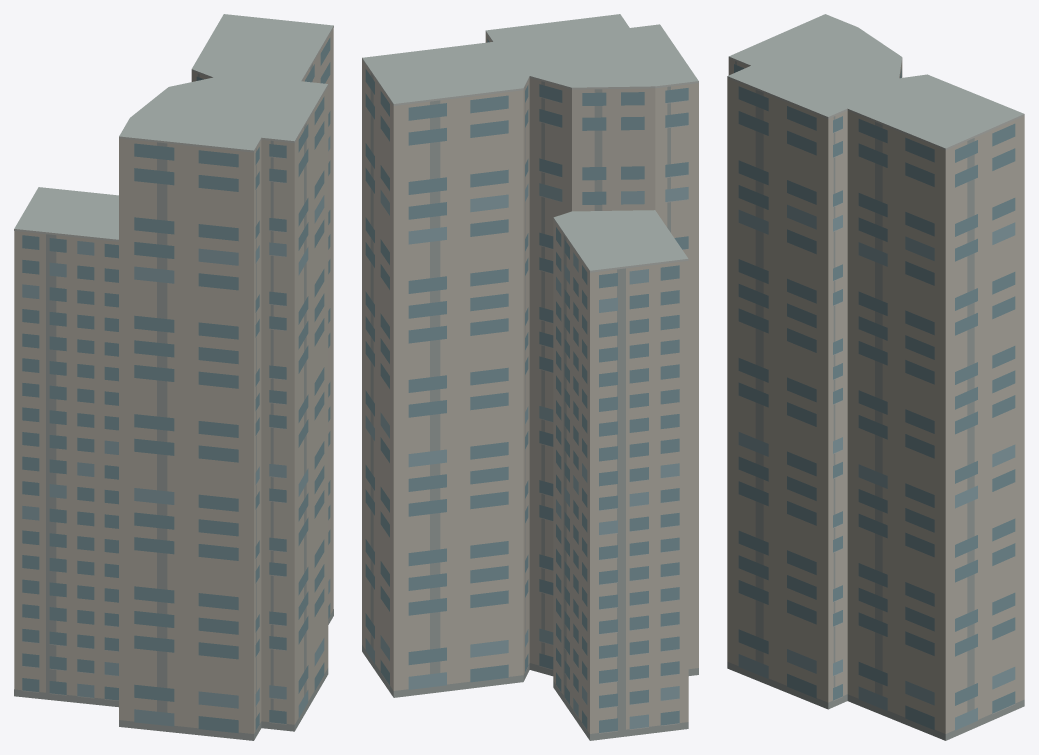
Rendered from residential-c8f4e160-141f-46b6-8d2b-c1d2aeca9712.glb.
3 renders of one model, left to right at view 1: azimuth 30°, elevation 25°; view 2: azimuth 150°, elevation 25°; view 3: azimuth 270°, elevation 25°, orthographic.
Visible parts, largest first — view 1: residential-c8f4e160-141f-46b6-8d2b-c1d2aeca9712.tmp; view 2: residential-c8f4e160-141f-46b6-8d2b-c1d2aeca9712.tmp; view 3: residential-c8f4e160-141f-46b6-8d2b-c1d2aeca9712.tmp.
Boxes of the visible parts, box(x1,y1,x2,y2) form: residential-c8f4e160-141f-46b6-8d2b-c1d2aeca9712.tmp: box(14, 14, 333, 740); residential-c8f4e160-141f-46b6-8d2b-c1d2aeca9712.tmp: box(362, 14, 698, 740); residential-c8f4e160-141f-46b6-8d2b-c1d2aeca9712.tmp: box(727, 14, 1024, 740).
Bounding box in the file's own units: 41.8 × 73.2 × 33.28.
